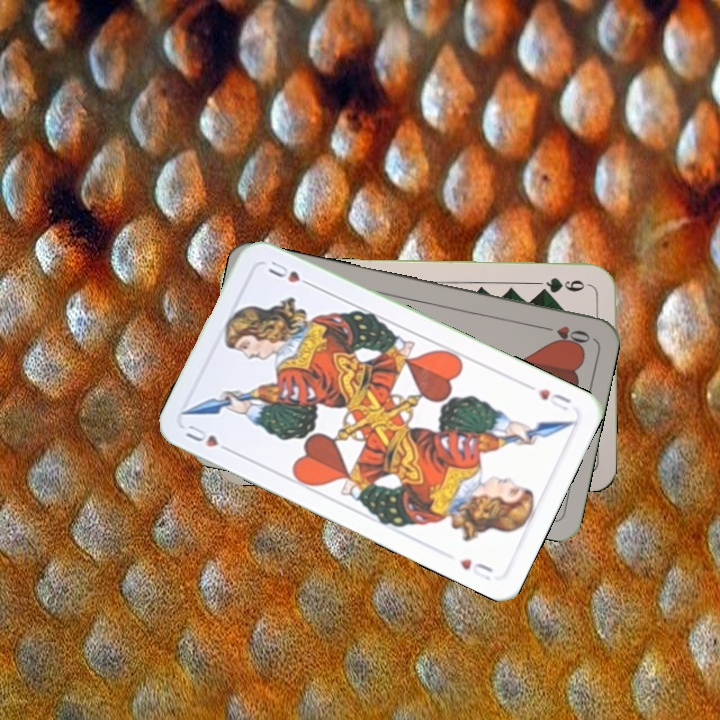G9: (534, 274, 587, 296)
HO: (535, 321, 593, 347)
HU: (181, 421, 236, 456), (533, 384, 574, 414)
